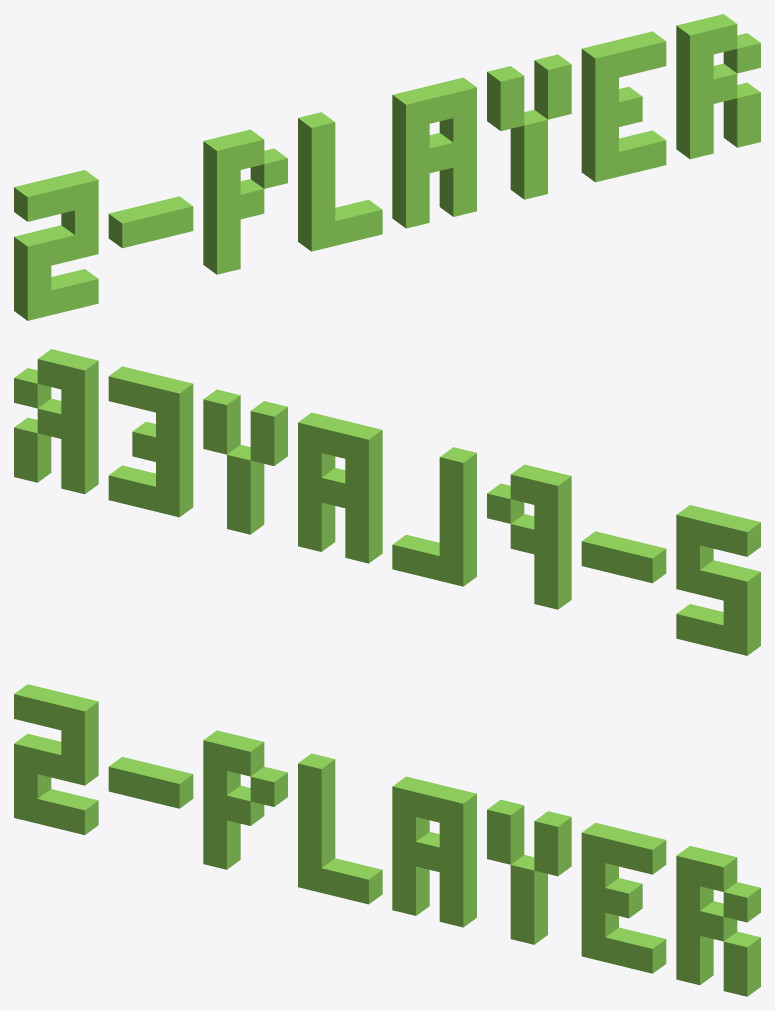
File: Start2P.obj
3 views of the same model, one above another, from view 1: azimuth 30°, elevation 25°; view 2: azimuth 150°, elevation 25°; view 3: azimuth 330°, elevation 25° (orthographic).
Parts seen in each view (by area): view 1: Start2P; view 2: Start2P; view 3: Start2P.
Part boxes in pixels (left/top/right/bottom): Start2P: left=14, top=14, right=760, bottom=320; Start2P: left=14, top=349, right=760, bottom=655; Start2P: left=14, top=684, right=760, bottom=996.
Size of the model in its own units: 31 by 5 by 1.
Materials: 1 (1 with a texture image).
